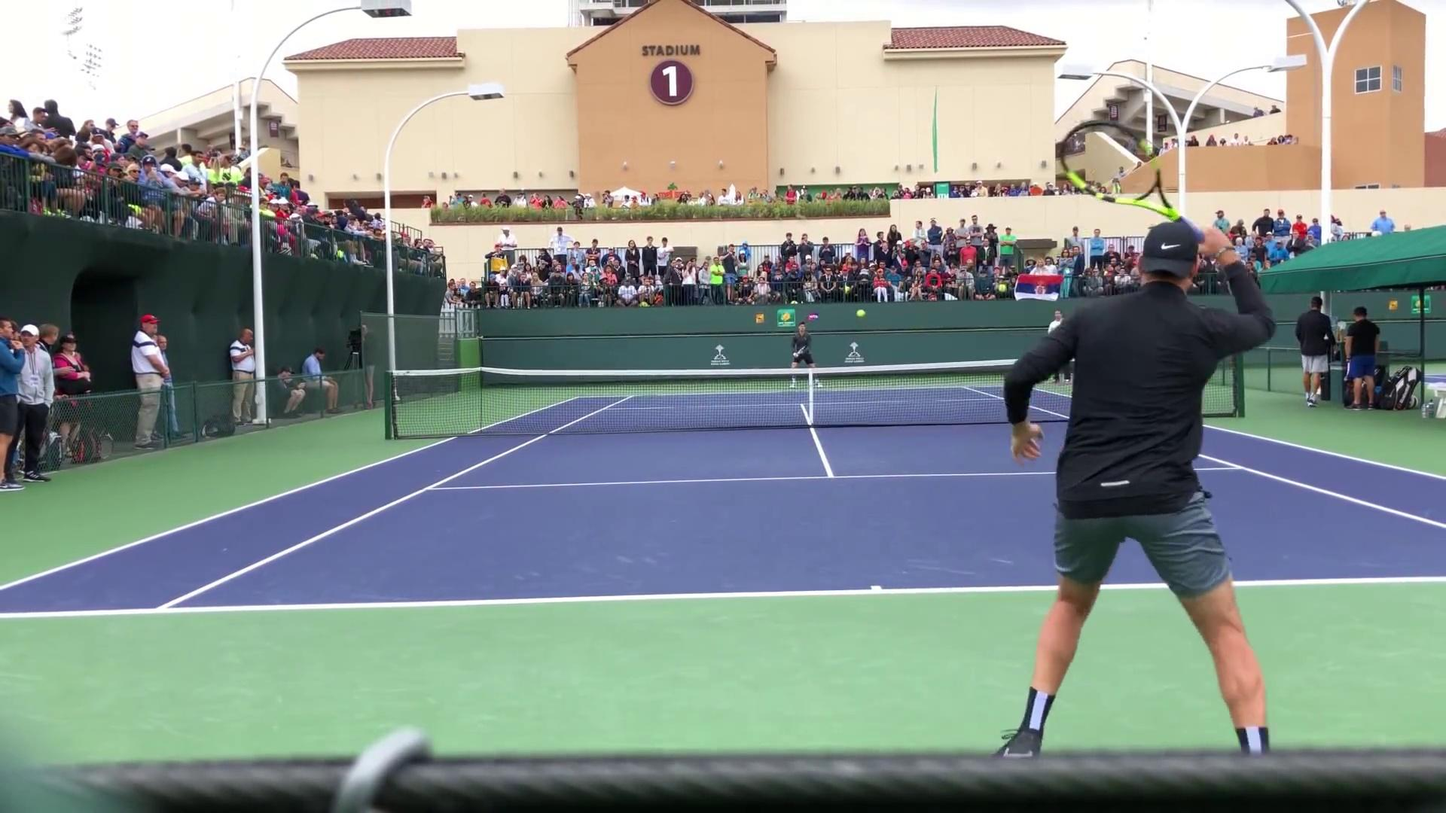ball: (1028, 423, 1042, 437), (854, 309, 866, 317)
